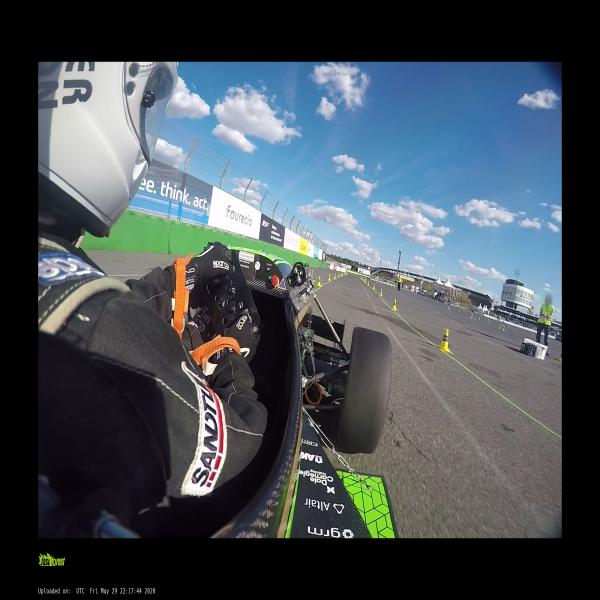yellow_cone: (436, 327, 450, 352), (390, 299, 397, 311), (316, 275, 321, 287), (379, 288, 383, 296), (560, 350, 562, 362), (328, 274, 331, 280), (367, 280, 370, 286), (372, 284, 375, 289), (340, 273, 343, 277), (334, 273, 336, 278), (338, 273, 340, 277), (364, 279, 366, 283)
